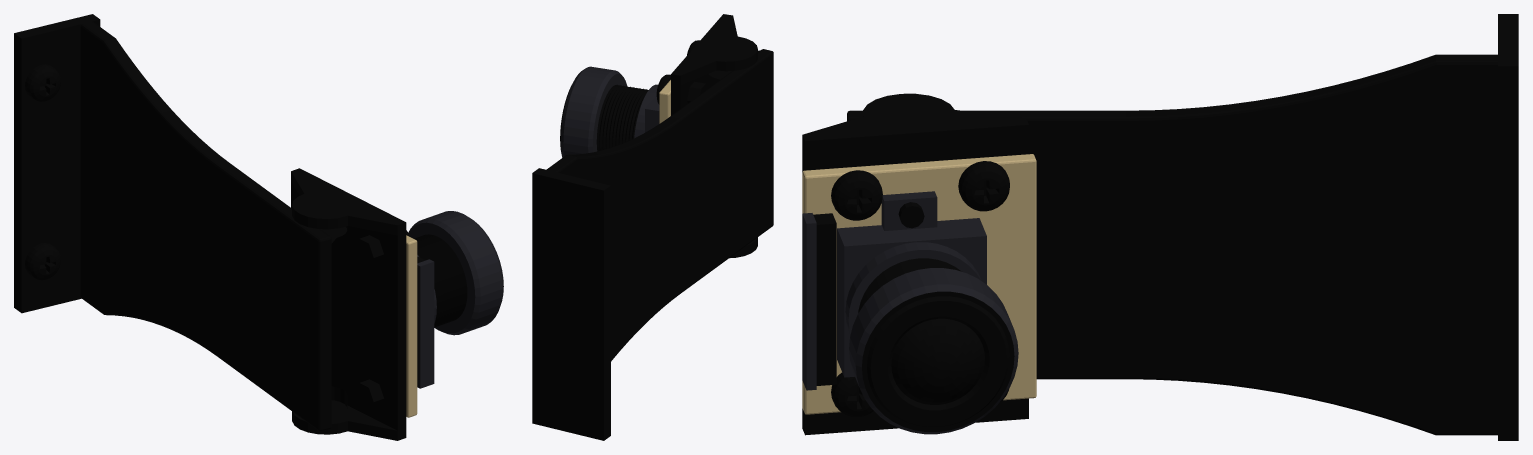
Rendered from cam_tower_vis.obj.
3 views of the same model, side by side, from view 1: azimuth 30°, elevation 25°; view 2: azimuth 150°, elevation 25°; view 3: azimuth 270°, elevation 25° (orthographic). The views are drawn at different scales.
Bounding box in the file's own units: 0.0387 × 0.04 × 0.0693.
Materials: 1 (1 with a texture image).
